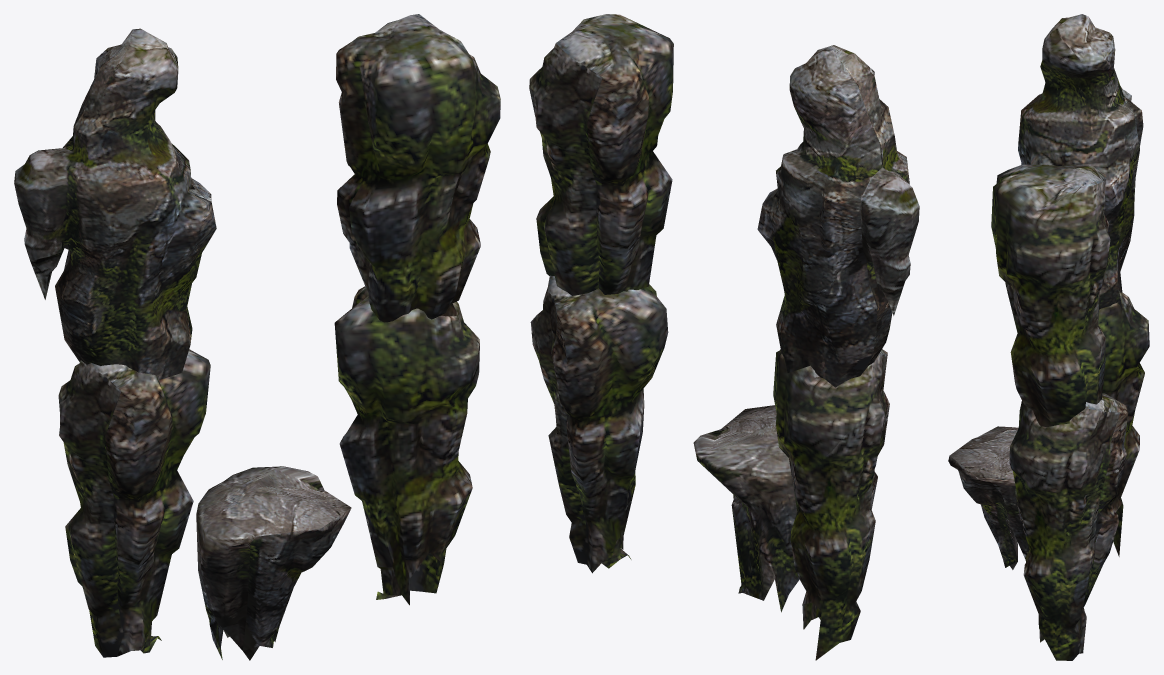
Rendered from Utility_Stone_Maincity12_07.FBX.
3 renders of one model, left to right at view 1: azimuth 30°, elevation 25°; view 2: azimuth 150°, elevation 25°; view 3: azimuth 270°, elevation 25°, orthographic. The views are drawn at different scales.
Parts seen in each view (by area): view 1: Utility_Stone_Maincity12_07; view 2: Utility_Stone_Maincity12_07; view 3: Utility_Stone_Maincity12_07.
Boxes of the visible parts, box(x1,y1,x2,y2) form: Utility_Stone_Maincity12_07: box(14, 14, 500, 660); Utility_Stone_Maincity12_07: box(529, 14, 919, 660); Utility_Stone_Maincity12_07: box(948, 14, 1149, 660).
Size of the model in its own units: 9949 by 13826 by 4635.
